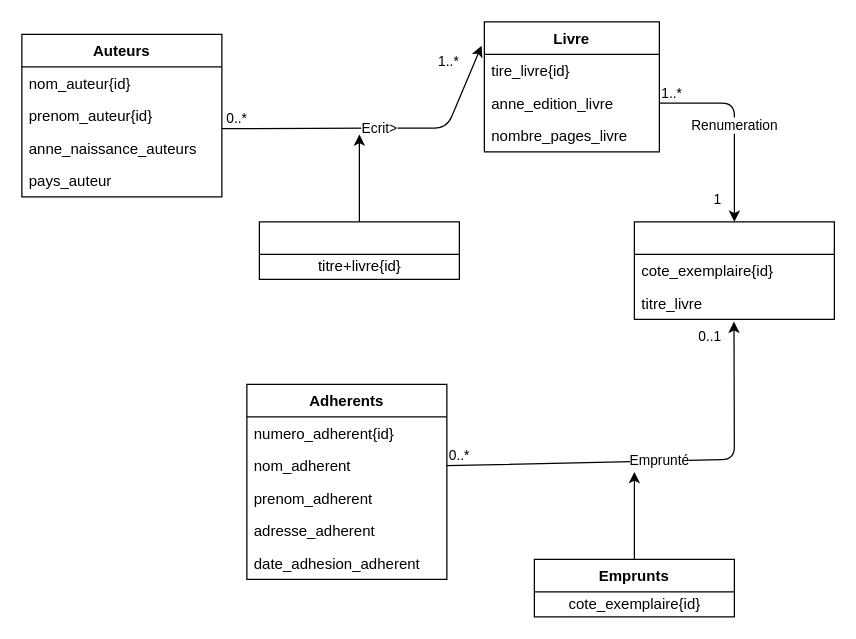
Some shapes in this 856 by 639 pixel diagram are drawn without their labels. The shapes that lost their labels are listed below. From the top down, each one's box as (x1, y1, x2, y2) in pixels, then its label:
(258, 221, 459, 279): AuteursLivres
(633, 221, 834, 319): Exemplaires
